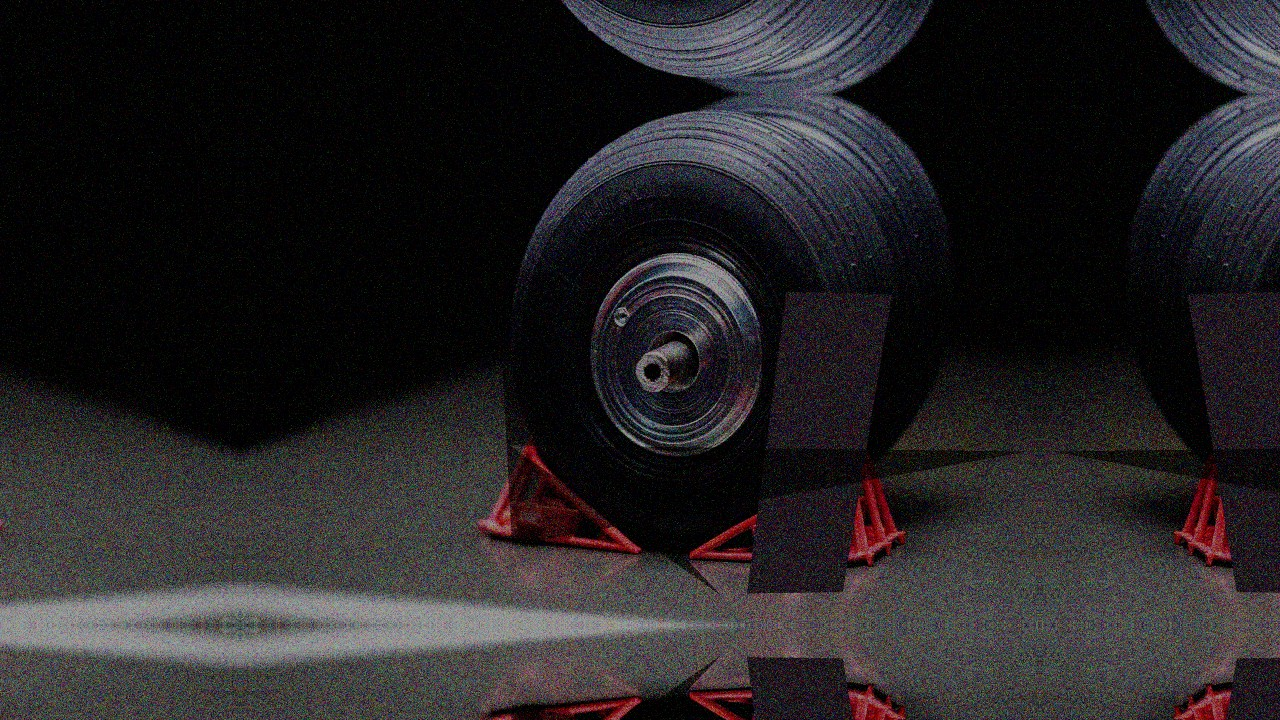chock: (687, 450, 920, 569), (477, 436, 657, 557), (1160, 450, 1280, 569), (687, 682, 920, 720), (477, 694, 657, 720), (1160, 682, 1280, 720)
wheel: (500, 99, 937, 558), (622, 94, 991, 522), (1089, 94, 1280, 522), (1143, 99, 1280, 558), (500, 0, 937, 89), (622, 0, 991, 94), (1089, 0, 1280, 94)
